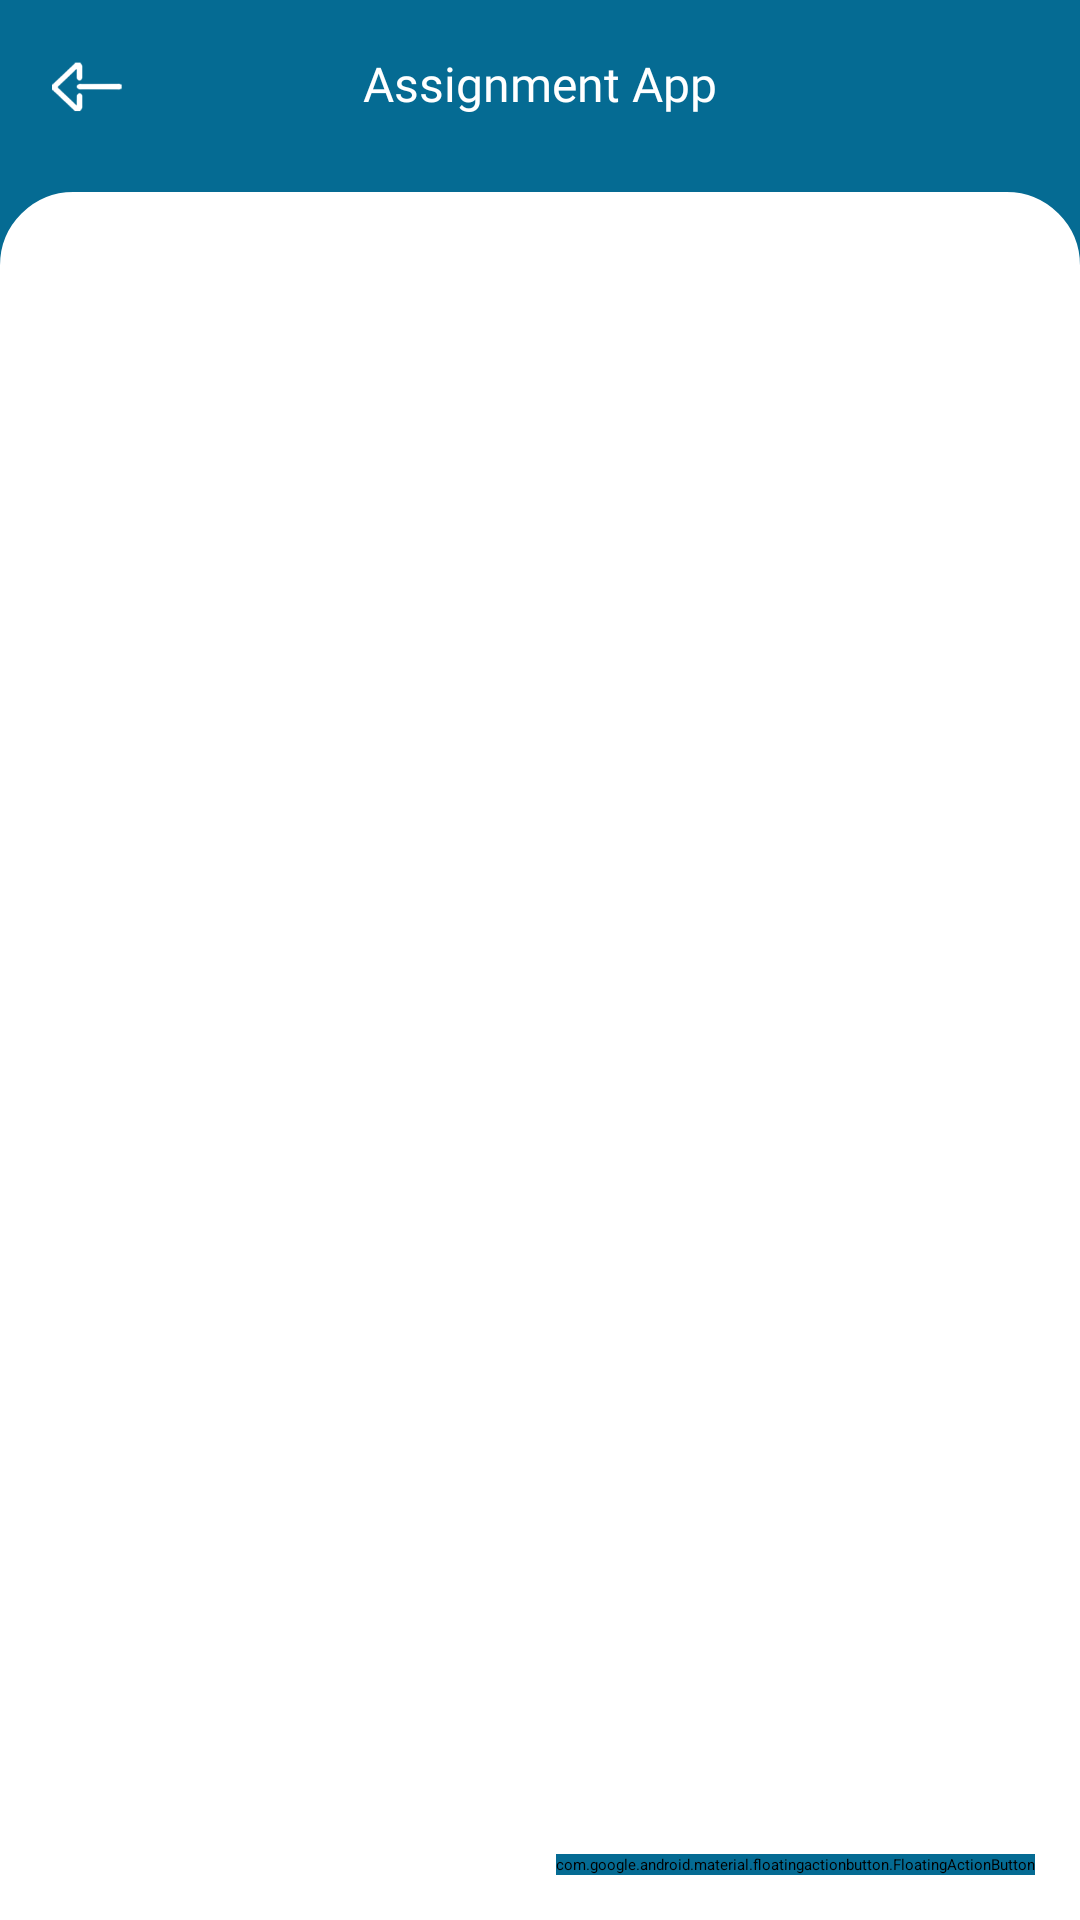

Named icons in this screenshot (1080x1920) and their centers, (x=x, y=y):
left: (x=87, y=86)
